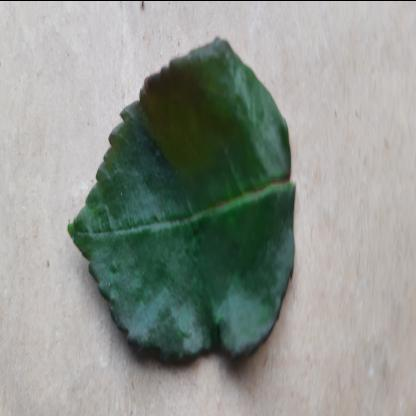powdery-mildew: (66, 29, 300, 367)
